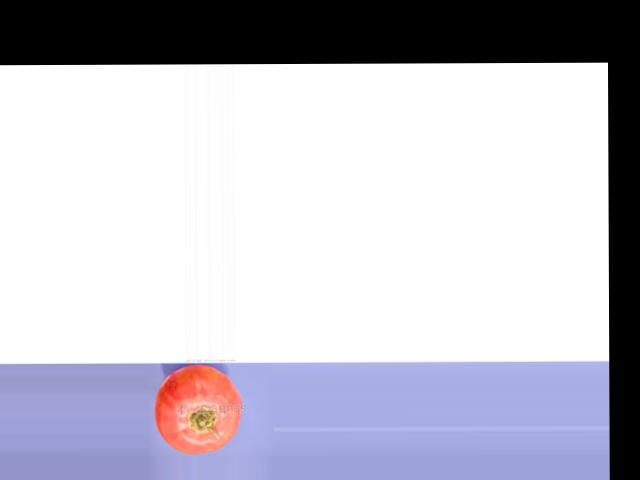tomato: (154, 366, 242, 454)
